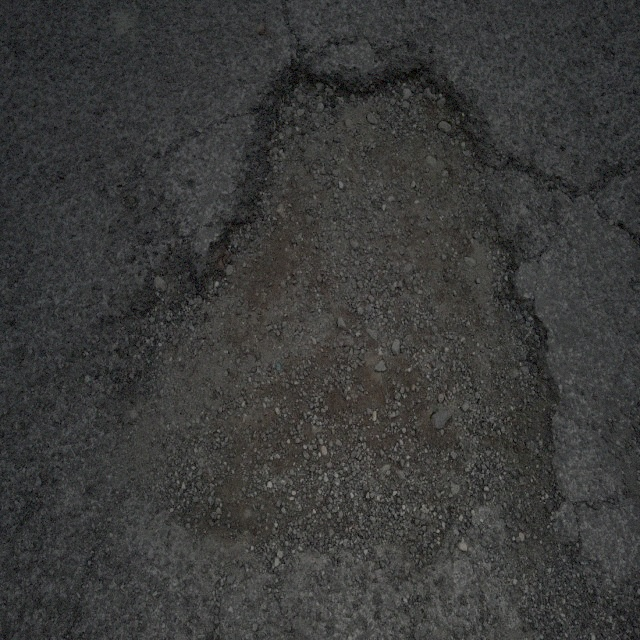pothole: (181, 50, 577, 558)
